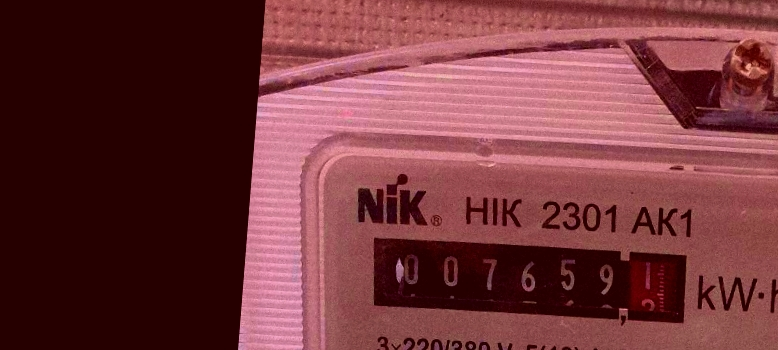0: (437, 251, 463, 290), (398, 248, 422, 288)
1: (638, 256, 656, 293)
5: (555, 254, 578, 293)
6: (515, 256, 540, 294)
7: (475, 253, 499, 293)
9: (593, 259, 617, 298)
screen: (358, 223, 698, 338)
